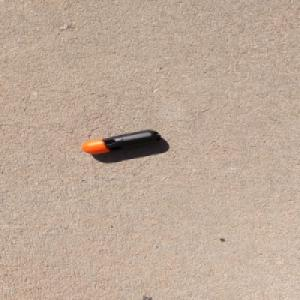PlasticPart: (79, 128, 160, 154)
